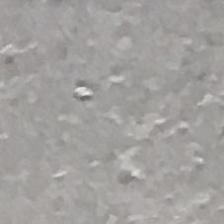Non_Crack: (6, 26, 224, 200)
